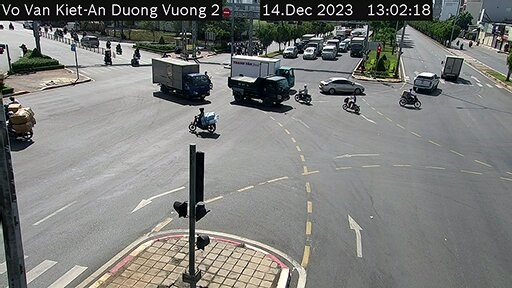car: (320, 73, 362, 93), (413, 71, 438, 93), (281, 44, 297, 59), (305, 45, 318, 61), (320, 47, 333, 59)
motorbike: (188, 104, 228, 133), (397, 89, 420, 115), (297, 83, 310, 104)
truck: (231, 48, 305, 93), (145, 53, 210, 101), (223, 70, 289, 108), (437, 48, 467, 81), (345, 34, 361, 58)
